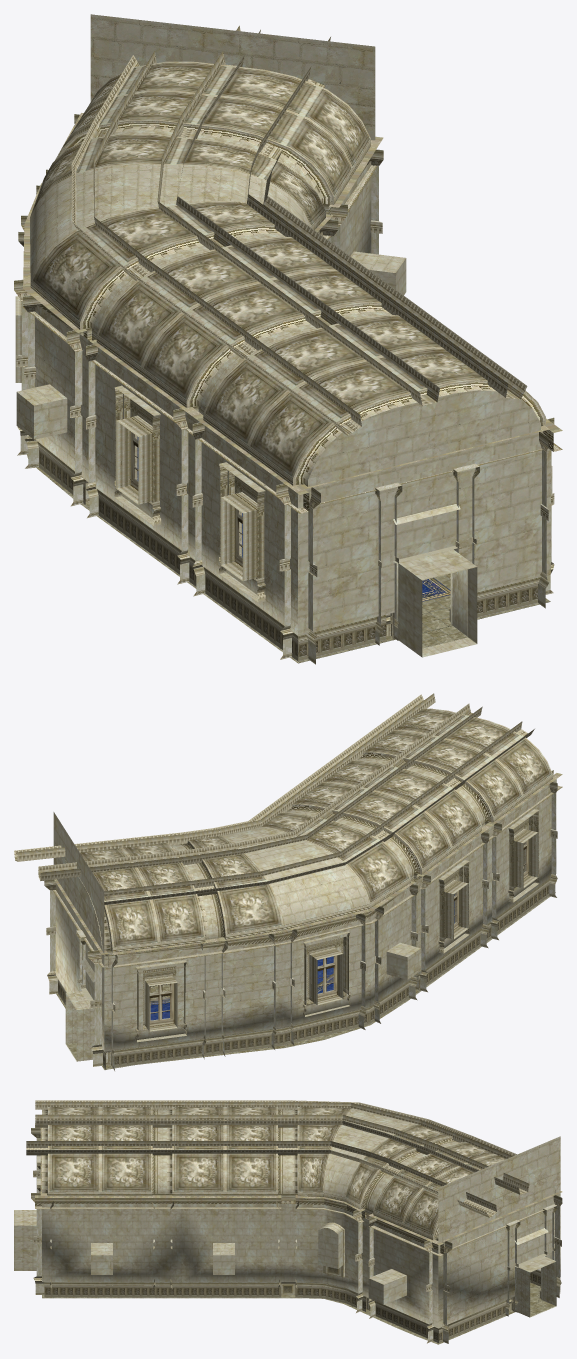
3 renders of one model, top to bottom at view 1: azimuth 30°, elevation 25°; view 2: azimuth 150°, elevation 25°; view 3: azimuth 270°, elevation 25°, orthographic. The views are drawn at different scales.
Parts seen in each view (by area): view 1: Shape 2, Shape 0, Shape 1, Shape 6, Shape 3, Shape 16, Shape 9; view 2: Shape 2, Shape 0, Shape 1, Shape 6, Shape 3, Shape 16, Shape 15, Shape 9, Shape 10, Shape 5; view 3: Shape 2, Shape 1, Shape 0, Shape 16, Shape 3, Shape 6, Shape 9, Shape 8.
Part boxes in pixels (x1,y1,x2,y2): Shape 2: (16,14,552,657); Shape 0: (30,61,487,478); Shape 1: (16,25,562,664); Shape 6: (14,114,554,645); Shape 3: (18,166,553,660); Shape 16: (39,448,537,661); Shape 9: (27,454,550,663); Shape 2: (53,758,556,1061); Shape 0: (80,708,552,947); Shape 1: (14,693,562,1070); Shape 6: (44,770,557,1056); Shape 3: (47,793,556,1067); Shape 16: (58,883,549,1069); Shape 15: (149,840,528,1026); Shape 9: (56,892,555,1069); Shape 10: (150,894,454,1020); Shape 5: (76,820,538,985); Shape 2: (14,1108,560,1328); Shape 1: (26,1100,562,1343); Shape 0: (48,1107,505,1235); Shape 16: (44,1272,560,1343); Shape 3: (34,1138,560,1341); Shape 6: (31,1128,562,1332); Shape 9: (42,1282,560,1344); Shape 8: (281,1266,510,1310).
Size of the model in its own units: 2572 by 1422 by 4494.
